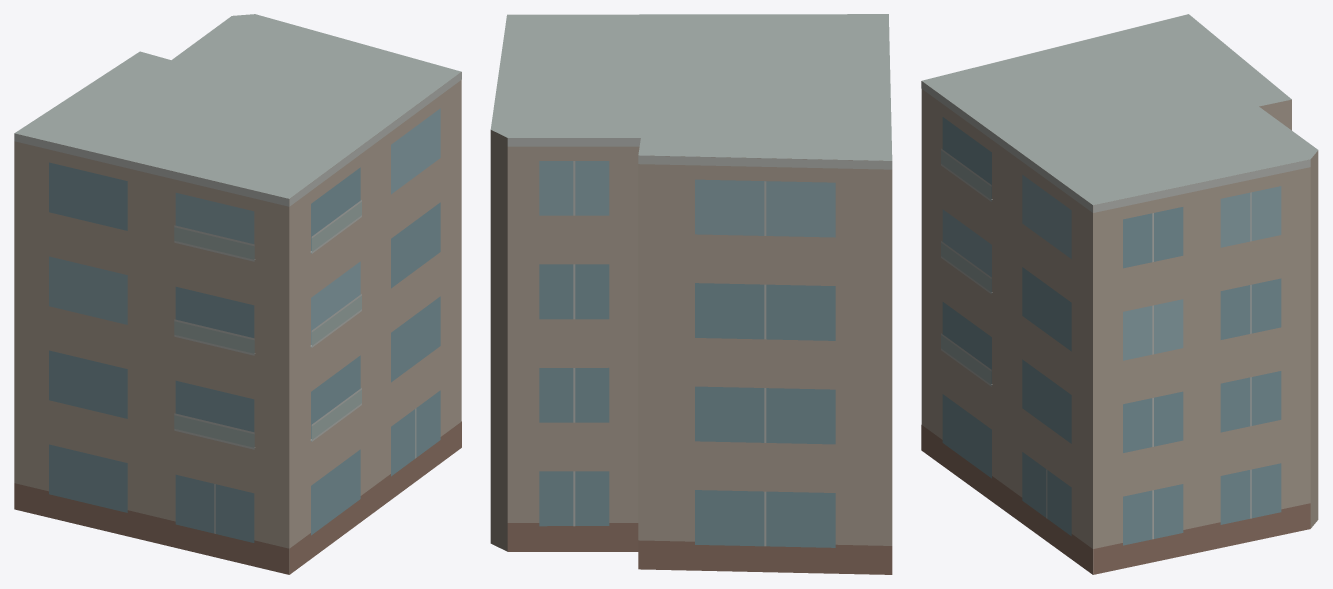
File: survey-upis-32515913.glb
3 renders of one model, left to right at view 1: azimuth 30°, elevation 25°; view 2: azimuth 150°, elevation 25°; view 3: azimuth 270°, elevation 25°, orthographic. The views are drawn at different scales.
Visible parts, largest first — view 1: survey-upis-32515913.tmp; view 2: survey-upis-32515913.tmp; view 3: survey-upis-32515913.tmp.
Boxes of the visible parts, box(x1,y1,x2,y2) form: survey-upis-32515913.tmp: box(14, 14, 461, 574); survey-upis-32515913.tmp: box(490, 14, 892, 574); survey-upis-32515913.tmp: box(921, 14, 1318, 574).
Bounding box in the file's own units: 12.88 × 11.6 × 11.3.
